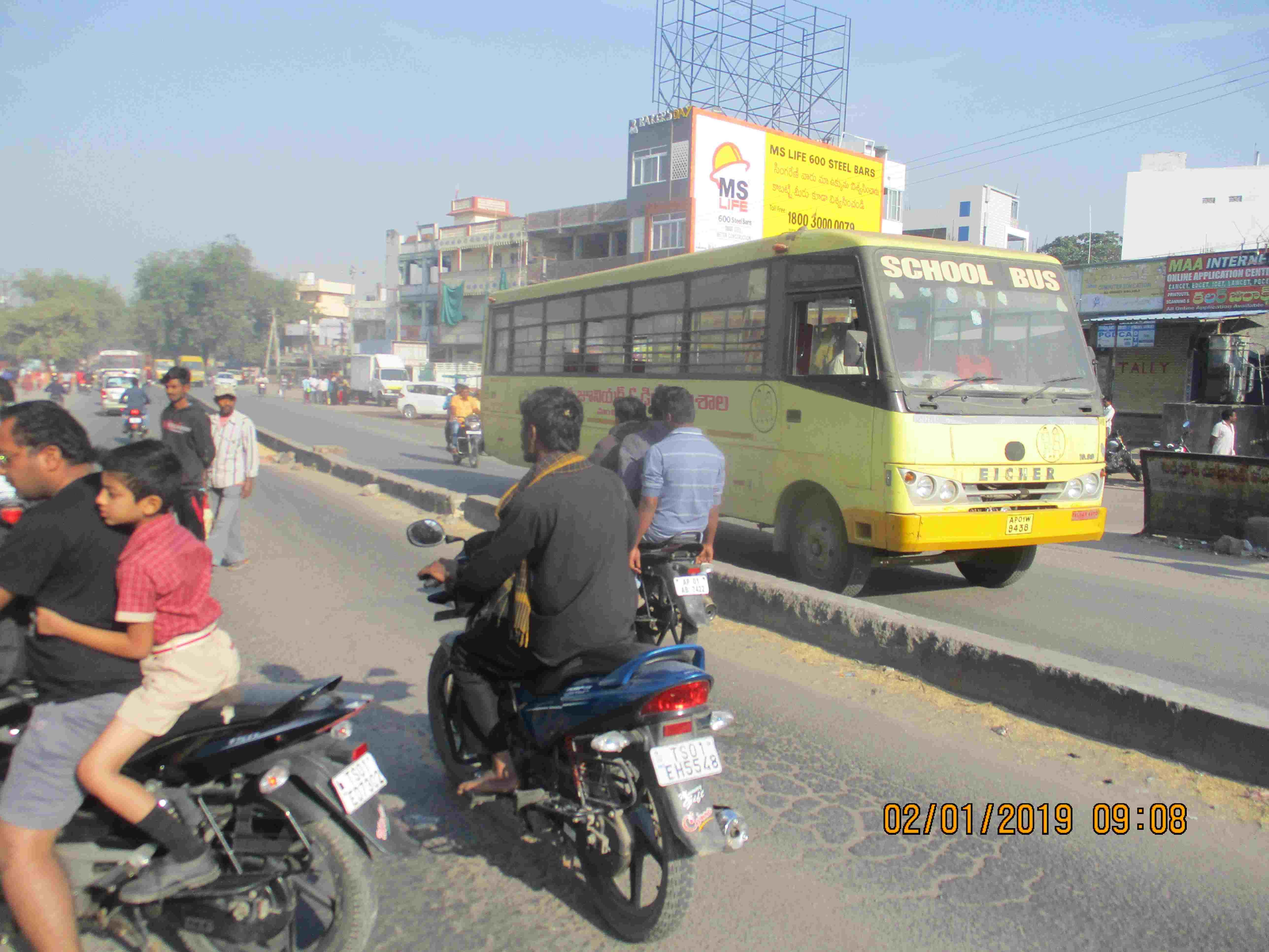plate: (642, 735, 733, 786)
